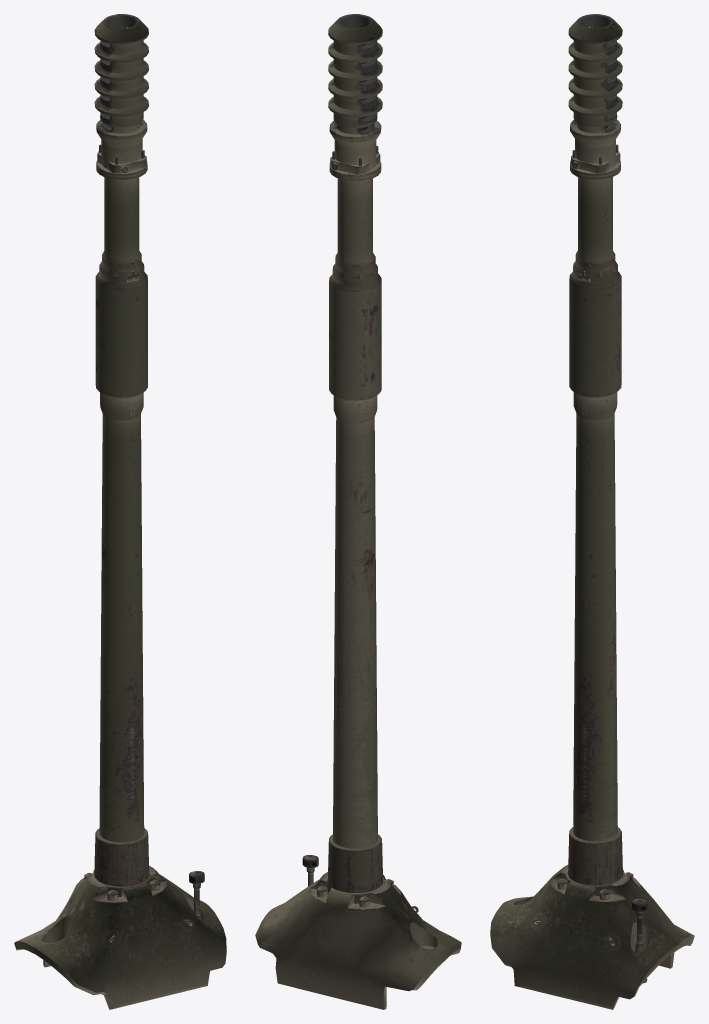
Rendered from Gun_02.glb.
The picture shows the model from 3 angles, left to right: view 1: azimuth 30°, elevation 25°; view 2: azimuth 150°, elevation 25°; view 3: azimuth 330°, elevation 25°; orthographic projection.
Parts seen in each view (by area): view 1: set_0_group_0; view 2: set_0_group_0; view 3: set_0_group_0.
Boxes of the visible parts, bbox=[...] form: set_0_group_0: bbox=[14, 14, 226, 1009]; set_0_group_0: bbox=[255, 14, 461, 1009]; set_0_group_0: bbox=[490, 14, 694, 1009].
Bounding box in the file's own units: 0.9833 × 5.14 × 0.5895.
1 material, 1 textured.
